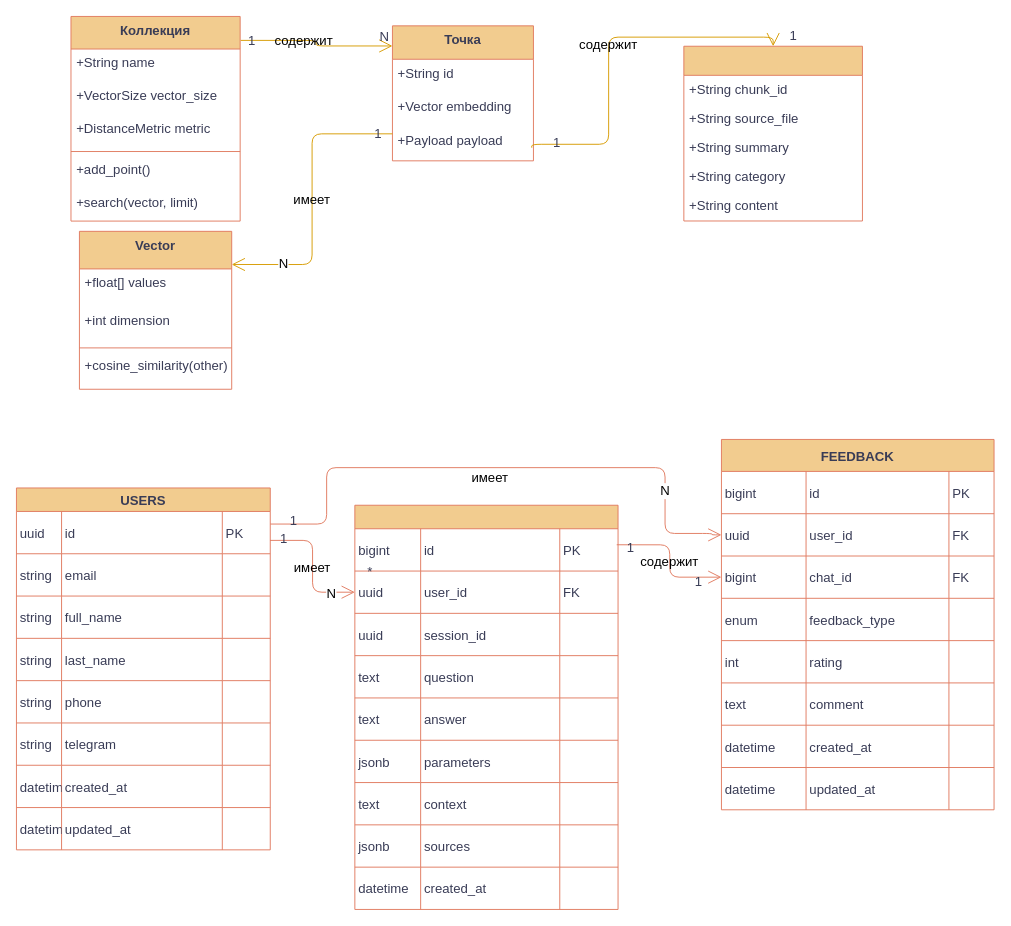
Some shapes in this 1011 by 926 pixel diagram are drawn without their labels. Each missing label, with the box of its shape:
CHATS: (354, 504, 618, 909)
Payload: (683, 45, 862, 221)
